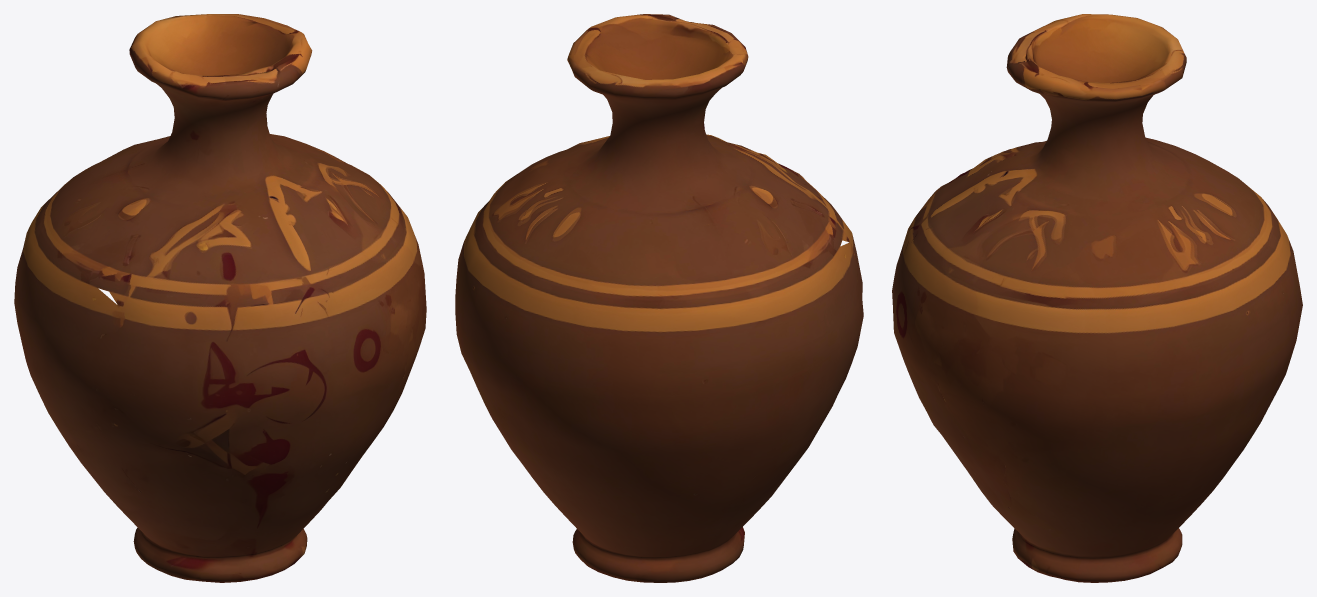
File: urn.glb
3 views of the same model, side by side, from view 1: azimuth 30°, elevation 25°; view 2: azimuth 150°, elevation 25°; view 3: azimuth 270°, elevation 25° (orthographic).
Visible parts, largest first — view 1: urn; view 2: urn; view 3: urn.
Boxes of the visible parts, x1,y1,x2,y2 form: urn: (14,14,426,582); urn: (455,14,863,582); urn: (892,14,1302,582).
Bounding box in the file's own units: 0.7352 × 1 × 0.7417.
Materials: 1 (1 with a texture image).
